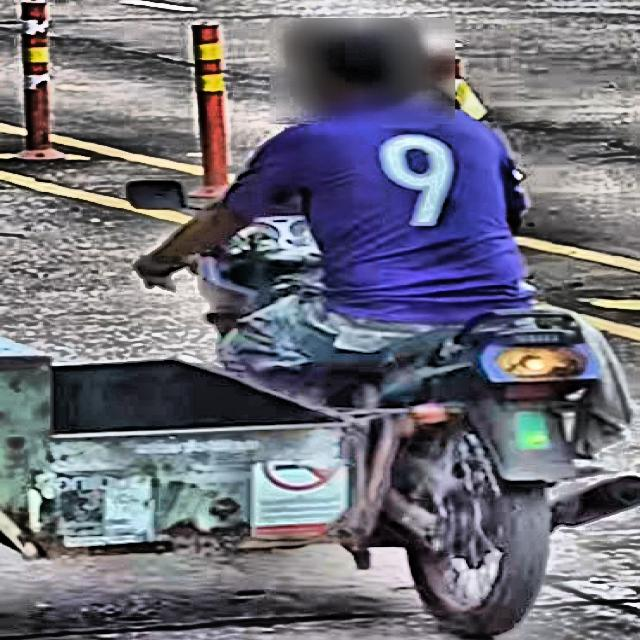motorcycle: (117, 154, 640, 638)
